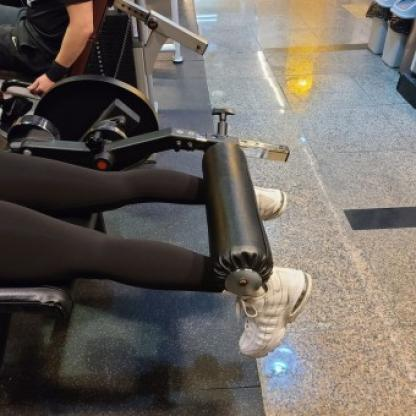reg curl machine: (1, 105, 316, 365)
